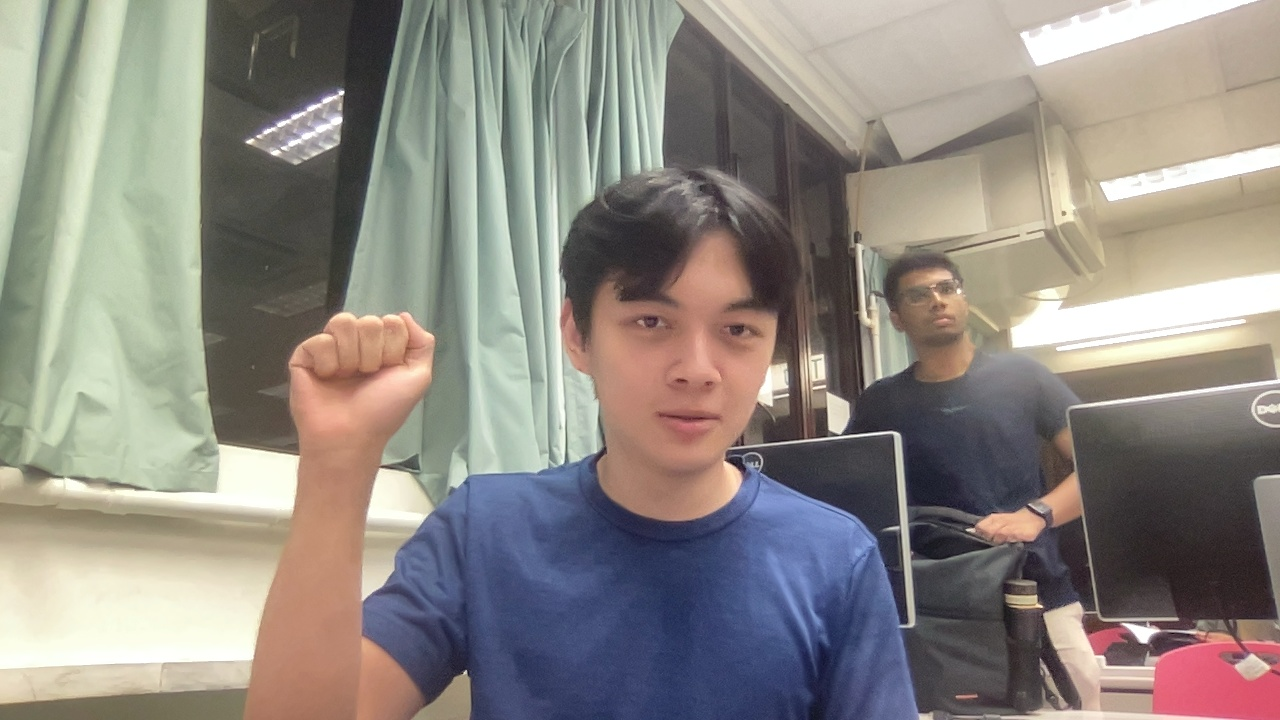yes: (260, 286, 452, 481)
